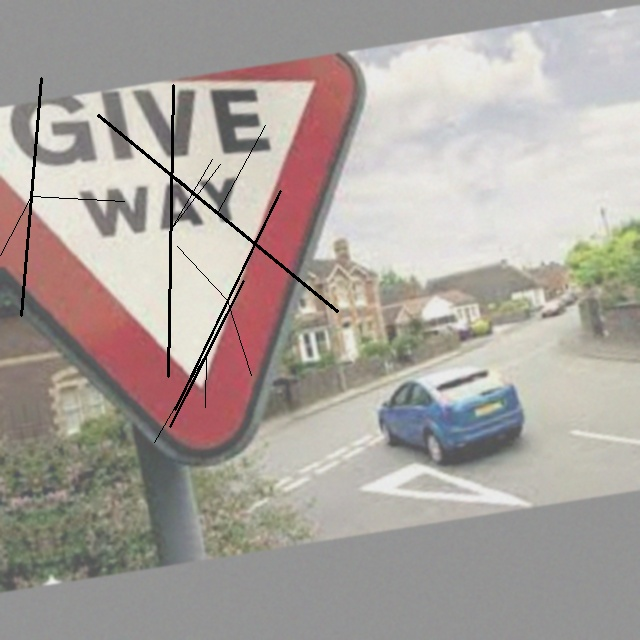Give_Way: (1, 54, 383, 427)
